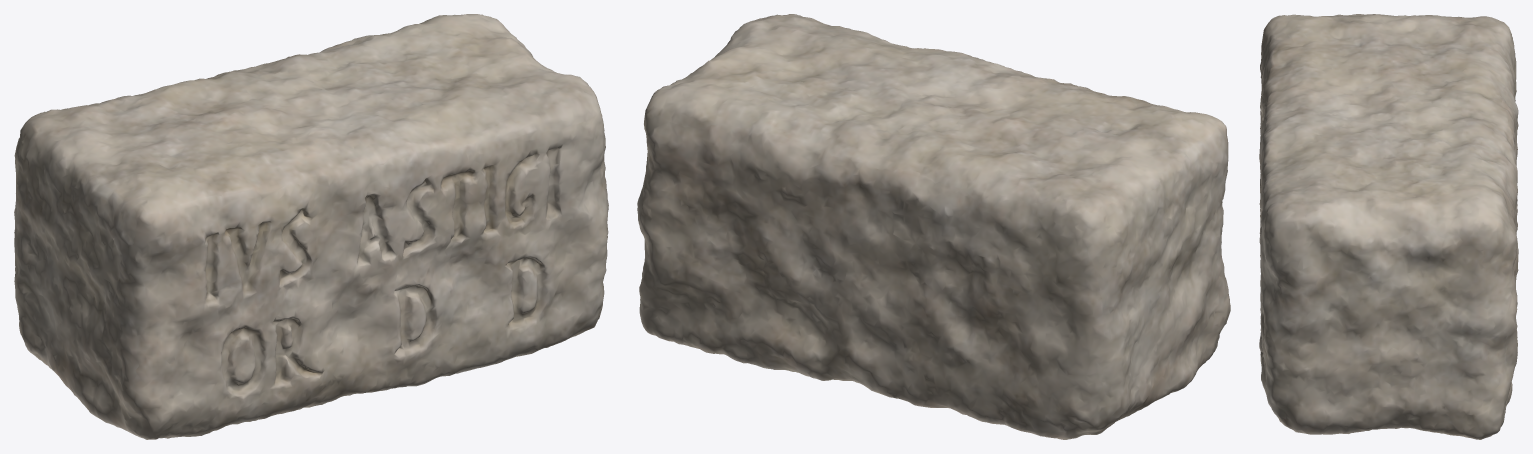
File: 15_PERD_astigi.glb
The picture shows the model from 3 angles, left to right: view 1: azimuth 30°, elevation 25°; view 2: azimuth 150°, elevation 25°; view 3: azimuth 270°, elevation 25°; orthographic projection. The views are drawn at different scales.
Parts seen in each view (by area): view 1: ASTIGI_LP; view 2: ASTIGI_LP; view 3: ASTIGI_LP.
Part boxes in pixels (<box>): ASTIGI_LP: <box>14,14,608,439</box>; ASTIGI_LP: <box>637,14,1230,439</box>; ASTIGI_LP: <box>1259,14,1518,439</box>.
Size of the model in its own units: 0.2931 by 0.1484 by 0.1482.
Materials: 1 (1 with a texture image).
